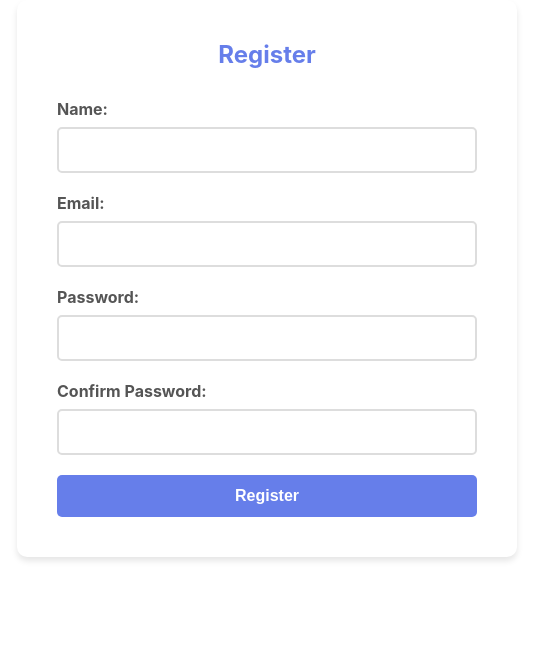
Test: Register Component › should show error when password is too short
Type "John Doe" into the field with test id "name-input" at (267, 150), box [57, 127, 477, 173]
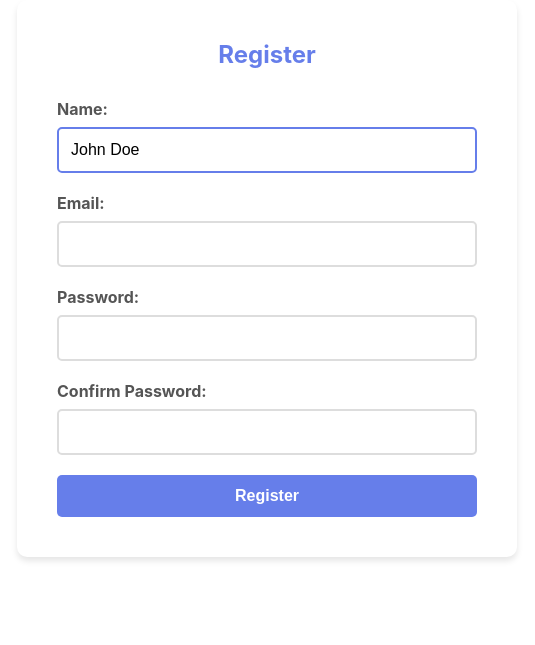
Type "test@example.com" into the field with test id "email-input" at (267, 244), box [57, 221, 477, 267]
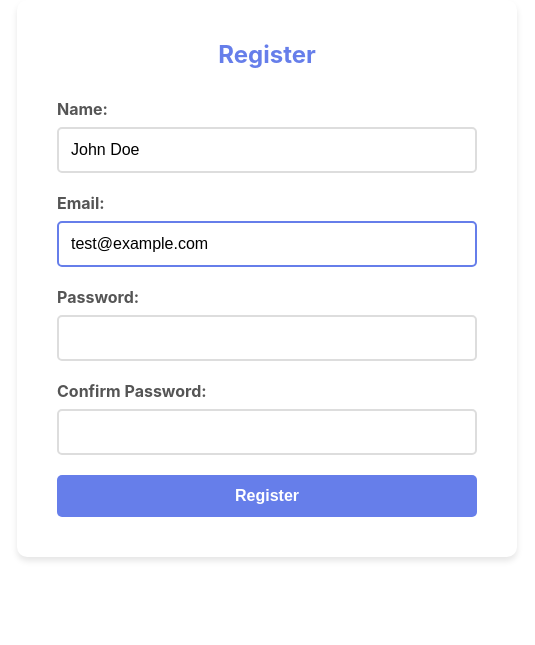
Type "12345" into the password field with test id "password-input" at (267, 338), box [57, 315, 477, 361]
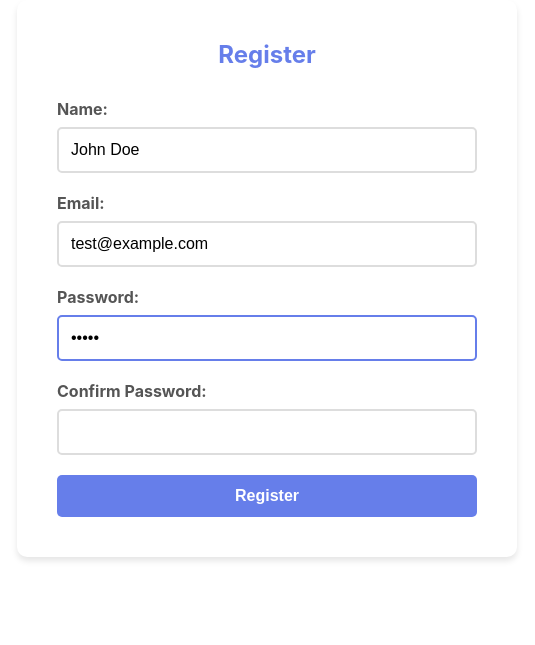
Type "12345" into the password field with test id "confirm-password-input" at (267, 432), box [57, 409, 477, 455]
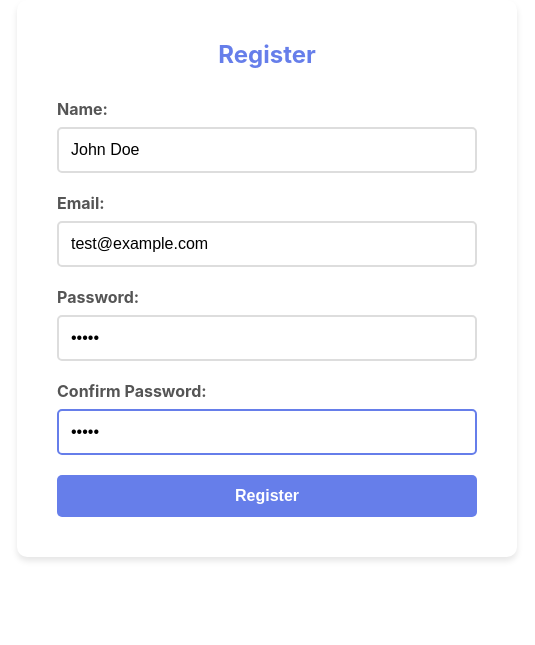
Click the button with test id "submit-button" at (267, 496), box [57, 475, 477, 517]
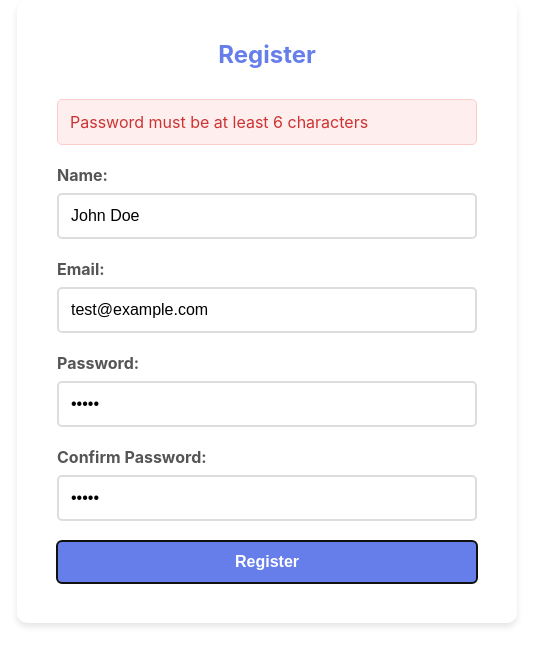
Now the text "Password must be at least 6 characters" is shown, box [57, 99, 477, 145]
